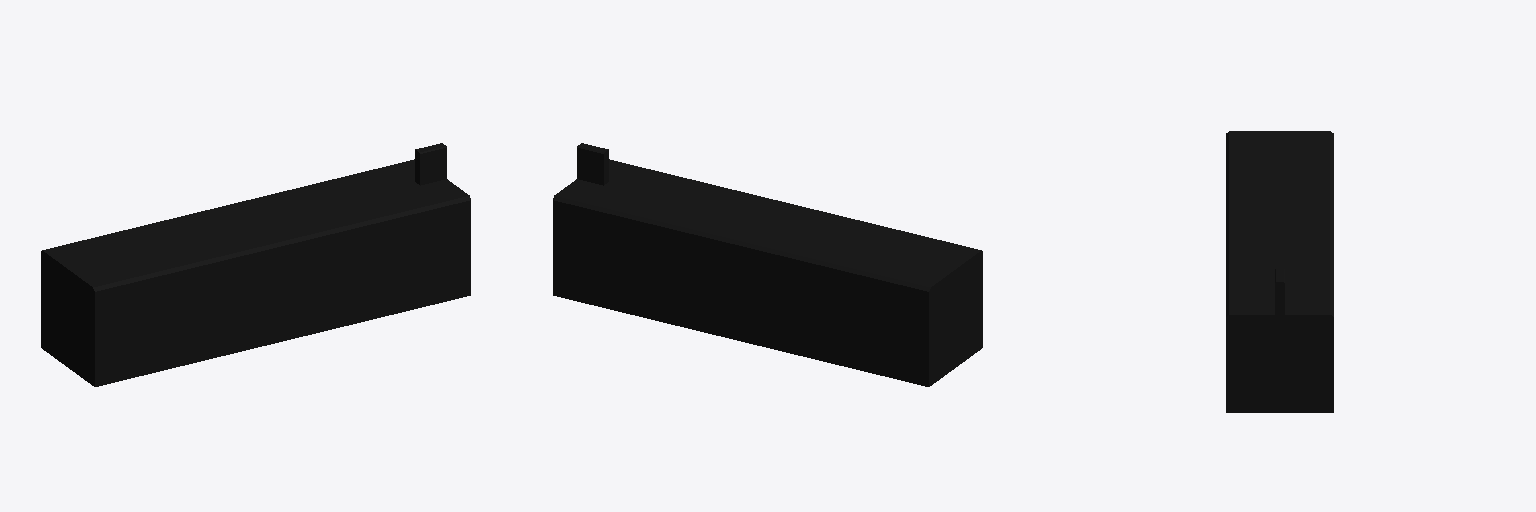
Rendered from Gun.obj.
3 renders of one model, left to right at view 1: azimuth 30°, elevation 25°; view 2: azimuth 150°, elevation 25°; view 3: azimuth 270°, elevation 25°, orthographic.
Visible parts, largest first — view 1: Cube; view 2: Cube; view 3: Cube.
Part boxes in pixels (x1,y1,x2,y2): Cube: (41, 143, 470, 386); Cube: (553, 143, 982, 386); Cube: (1226, 131, 1333, 412).
Bounding box in the file's own units: 8 × 2.66 × 2.